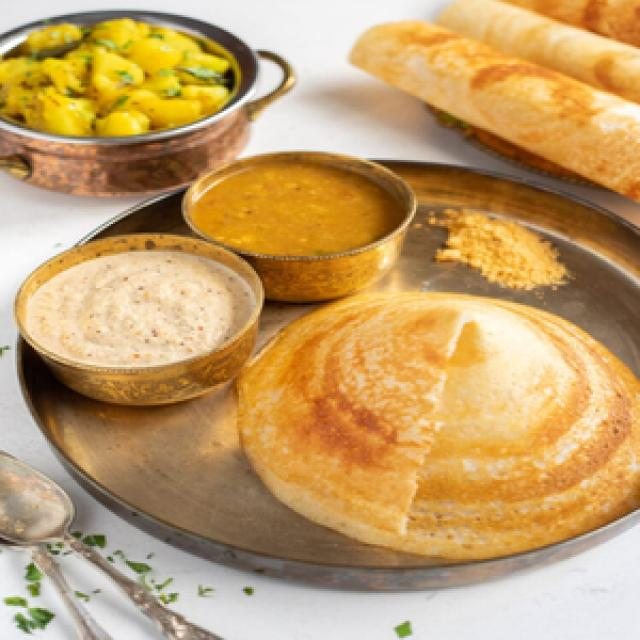dosa: (224, 280, 640, 568), (334, 8, 640, 211), (450, 0, 640, 82), (520, 0, 640, 40)
